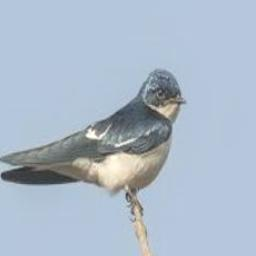Swallow: (0, 68, 186, 208)
